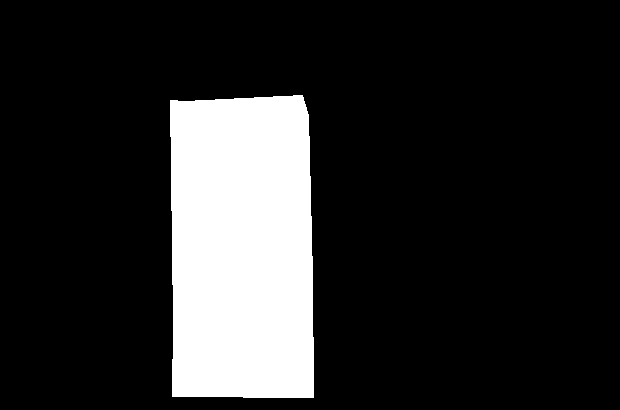type3s: (168, 88, 318, 399)
